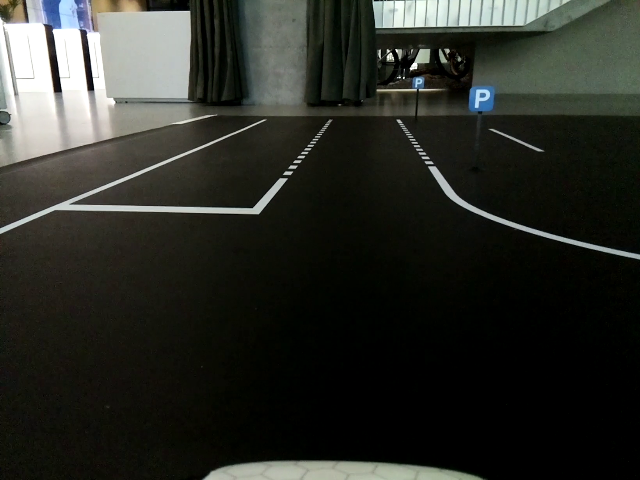park: (469, 86, 494, 111), (413, 75, 425, 89)
